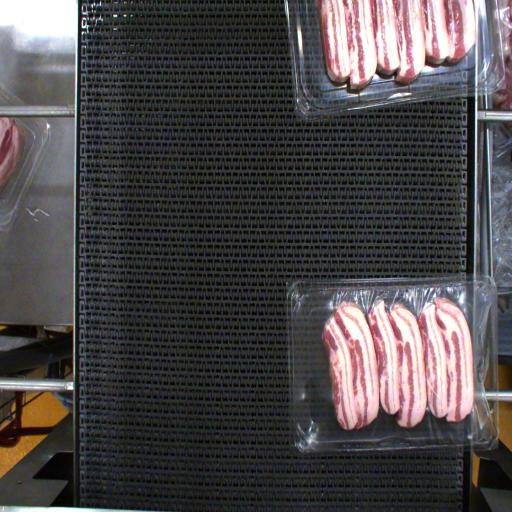unsealed: (289, 279, 496, 444)
